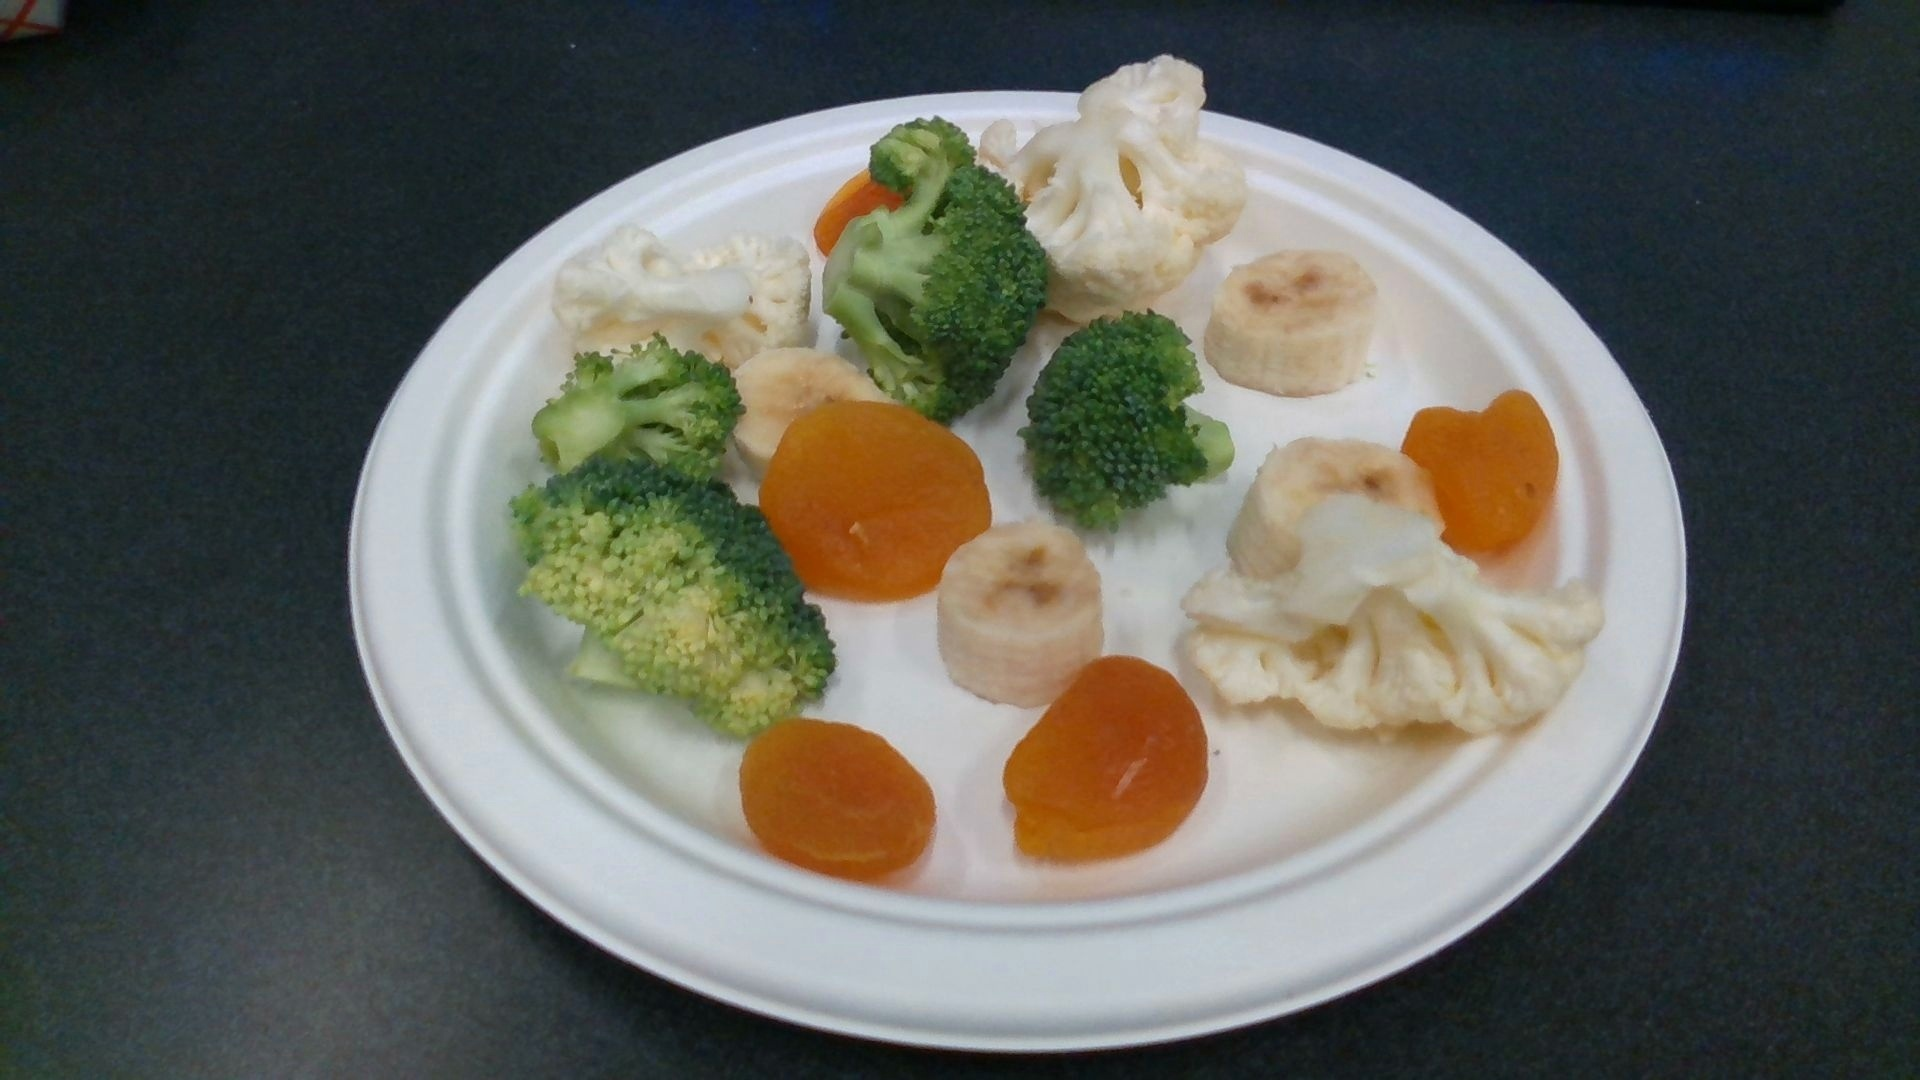apricot: (760, 401, 994, 600), (1004, 659, 1211, 862), (738, 720, 935, 876), (1404, 396, 1559, 555)
banana: (1226, 440, 1445, 574), (940, 526, 1105, 700), (1207, 256, 1385, 396)
broccoli: (516, 463, 837, 721), (825, 121, 1044, 418), (1027, 315, 1232, 525), (534, 342, 738, 475)
cauliflower: (1187, 506, 1605, 727), (975, 55, 1244, 315), (554, 228, 814, 348)
